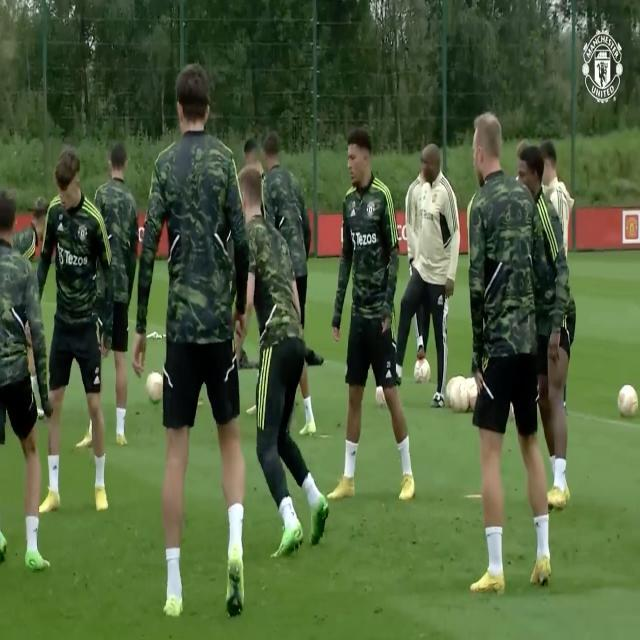Adidas: (57, 220, 65, 235), (350, 205, 358, 218), (386, 366, 392, 380)
